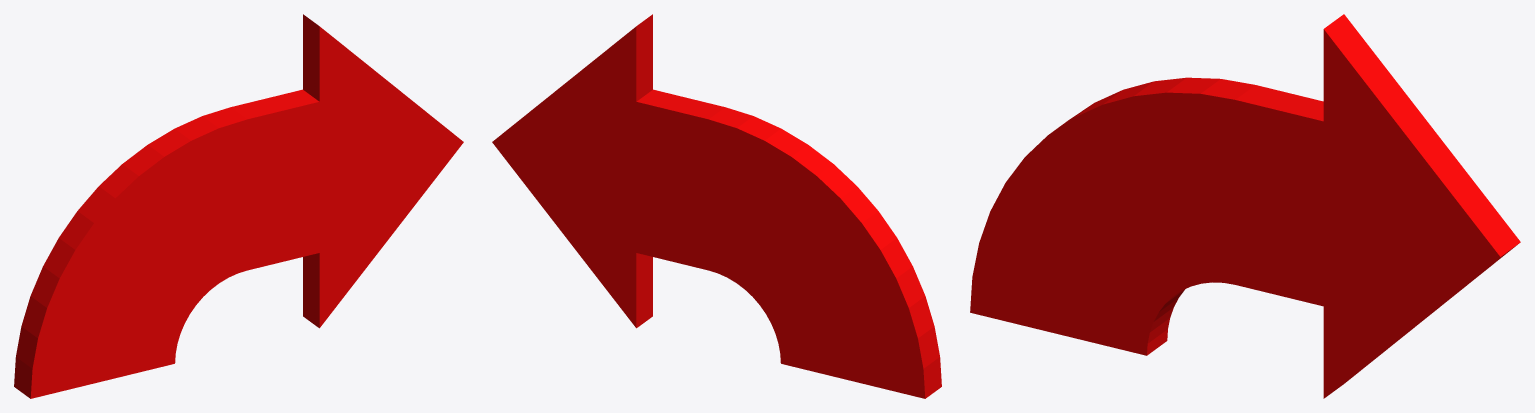
File: Proto_Symbol_Arrow_Curved_01.fbx
3 views of the same model, side by side, from view 1: azimuth 30°, elevation 25°; view 2: azimuth 150°, elevation 25°; view 3: azimuth 330°, elevation 25° (orthographic). The views are drawn at different scales.
Parts seen in each view (by area): view 1: Proto_Symbol_Arrow_Curved_01; view 2: Proto_Symbol_Arrow_Curved_01; view 3: Proto_Symbol_Arrow_Curved_01.
Boxes of the visible parts, bbox=[...] form: Proto_Symbol_Arrow_Curved_01: bbox=[14, 14, 463, 398]; Proto_Symbol_Arrow_Curved_01: bbox=[492, 14, 941, 398]; Proto_Symbol_Arrow_Curved_01: bbox=[970, 14, 1520, 398].
Bounding box in the file's own units: 0.75 × 0.5 × 0.05.
